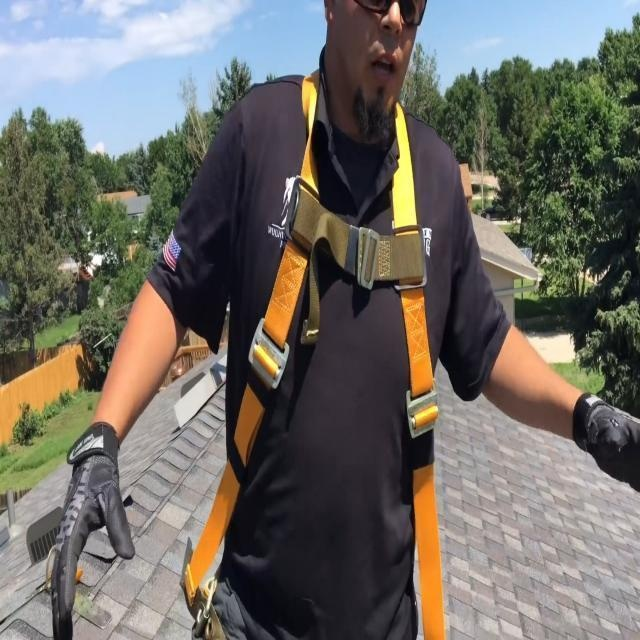Arnes_seguridad: (180, 71, 446, 638)
